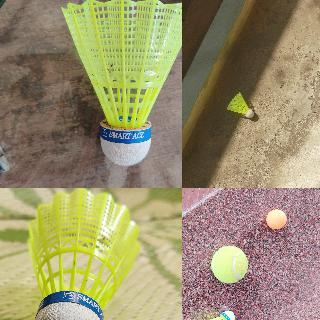shuttlecock: (59, 0, 181, 167), (26, 188, 142, 319), (226, 92, 254, 118)
